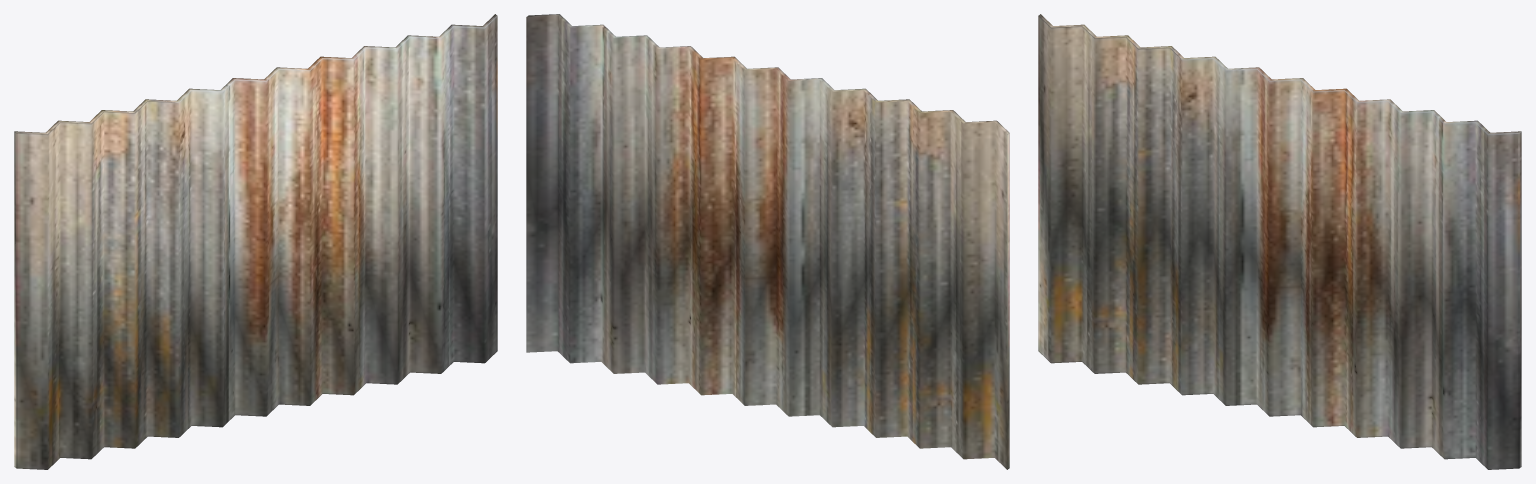
The model's file is psx_industrial_pack_metal_sheet.glb.
The picture shows the model from 3 angles, left to right: view 1: azimuth 30°, elevation 25°; view 2: azimuth 150°, elevation 25°; view 3: azimuth 330°, elevation 25°; orthographic projection.
Parts seen in each view (by area): view 1: MetalSheet; view 2: MetalSheet; view 3: MetalSheet.
Boxes of the visible parts, left/top/right/bottom form: MetalSheet: left=14, top=14, right=497, bottom=469; MetalSheet: left=526, top=14, right=1009, bottom=469; MetalSheet: left=1038, top=14, right=1521, bottom=469.
Bounding box in the file's own units: 3 × 2 × 0.1249.
Materials: 1 (1 with a texture image).
